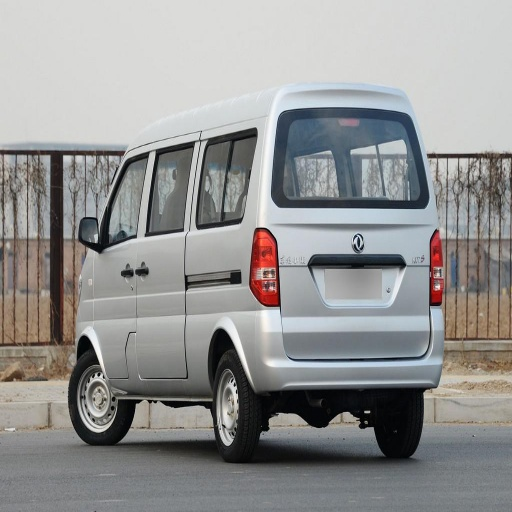back_bumper: (241, 304, 440, 392)
back_glass: (278, 107, 424, 204)
back_left_door: (145, 142, 228, 240)
back_left_light: (249, 230, 279, 307)
back_right_door: (275, 112, 327, 195)
tailgate: (293, 208, 425, 310)
trunk: (270, 212, 432, 356), (124, 267, 255, 393)
